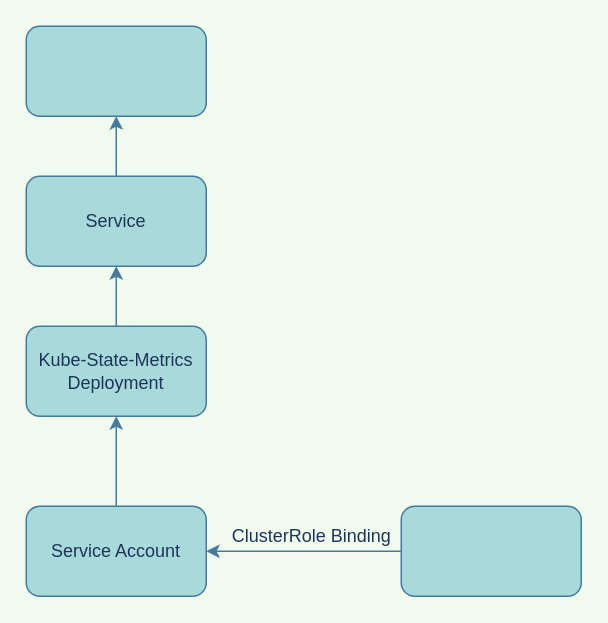
Some shapes in this 608 by 623 pixel diagram are drawn without their labels. The shapes that lost their labels are listed below. From the top down, each one's centre as x and y in pixels, then its label:
point (115, 70): Service Monitor(CRD)
point (490, 550): ClusterRole
